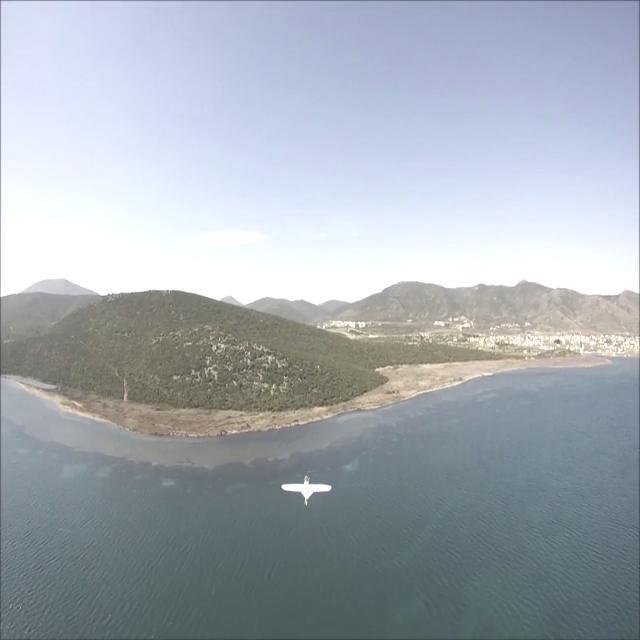iha: (279, 470, 334, 510)
